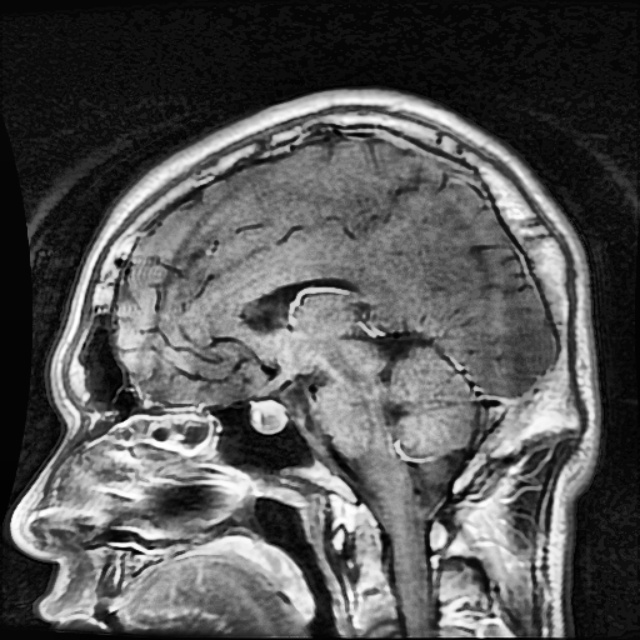Pituitary: (250, 400, 287, 434)
